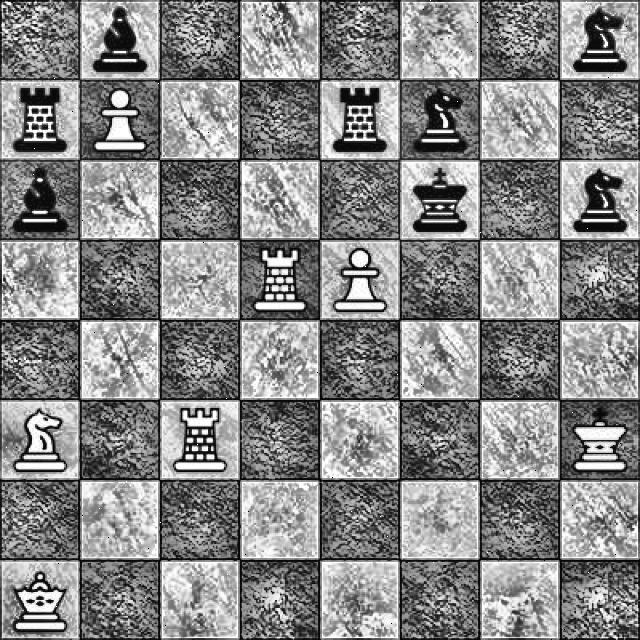Black Knight: (567, 3, 635, 75), (412, 84, 472, 154), (567, 170, 627, 232)
black bishop: (5, 165, 80, 232), (91, 1, 151, 76)
black king: (409, 167, 473, 234)
black rook: (0, 83, 78, 153), (326, 81, 388, 155)
white king: (569, 399, 636, 477)
white pawn: (91, 84, 156, 158), (330, 243, 392, 310)
white queen: (5, 569, 71, 637)
white rook: (170, 400, 234, 475), (251, 244, 305, 320)
whiteknight: (8, 404, 68, 474)
